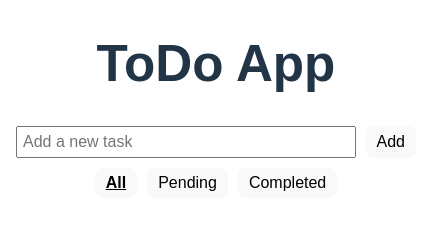
ToDo App › adds a new task when input is not empty
Type "New Task" into the field with placeholder "Add a new task" at (186, 142), box [16,126,356,158]
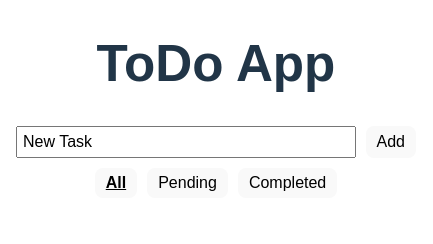
Click the button "Add" at (391, 142), box [366,126,416,158]
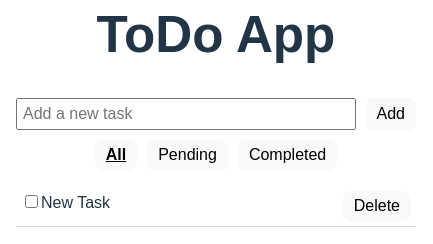
Result: the text "New Task" is shown at [41,194,110,211]
